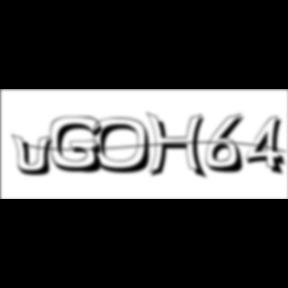6: (206, 112, 250, 176)
G: (51, 116, 110, 176)
H: (146, 112, 212, 182)
O: (94, 117, 158, 176)
u: (11, 132, 59, 178)
